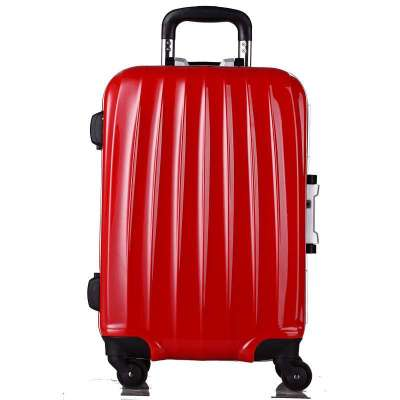luggage: (85, 6, 320, 392)
